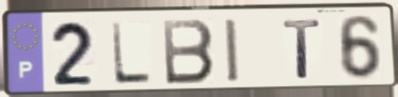2: (49, 17, 101, 92)
6: (336, 13, 384, 83)
B: (160, 17, 217, 87)
I: (222, 17, 243, 86)
L: (109, 20, 155, 86)
T: (280, 17, 324, 81)
